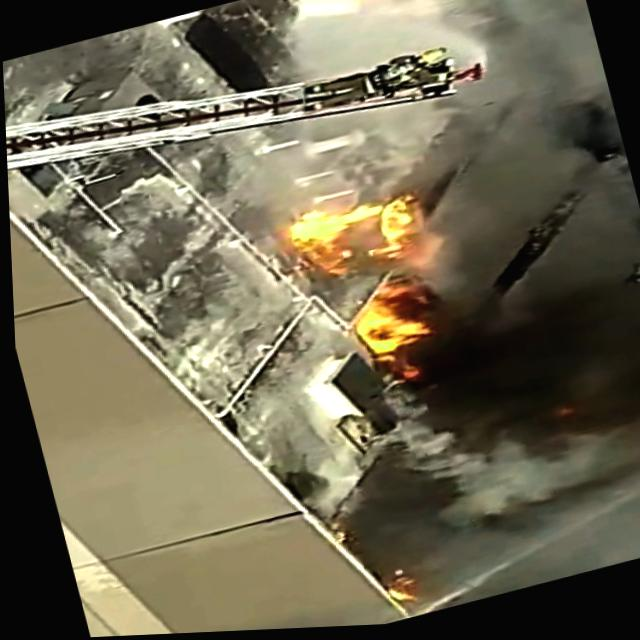fire: (307, 250, 476, 390)
smoke: (426, 267, 640, 538)
